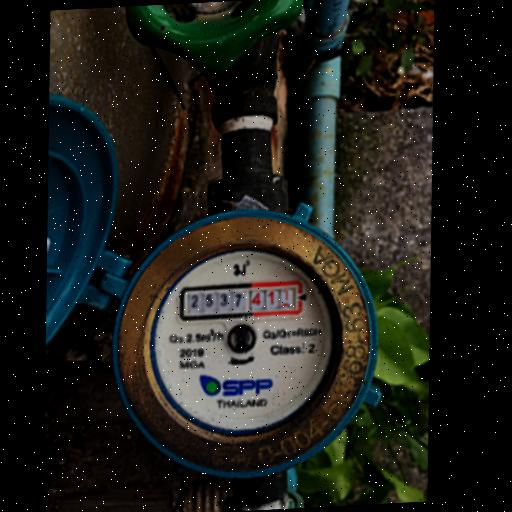1: (265, 290, 280, 310), (280, 290, 295, 310)
2: (188, 294, 202, 314)
3: (218, 292, 233, 312)
4: (250, 291, 265, 311)
5: (203, 294, 217, 313)
7: (232, 292, 247, 312)
border_water_meter_number: (178, 281, 305, 321)
